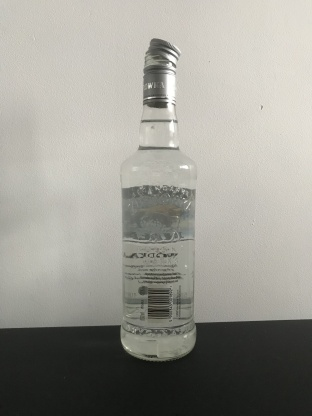nakretka: (141, 36, 182, 109)
